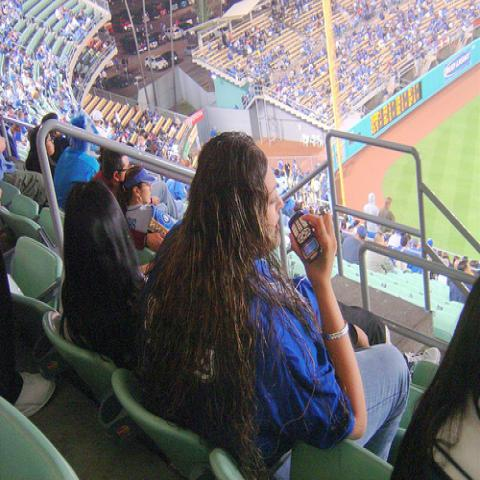car: (123, 36, 147, 54), (144, 54, 168, 71), (106, 75, 128, 88), (151, 31, 167, 46), (164, 27, 182, 40), (140, 35, 158, 48), (162, 51, 177, 66), (130, 68, 146, 82), (138, 8, 150, 23), (183, 45, 198, 56), (155, 5, 168, 17), (185, 18, 193, 24)
